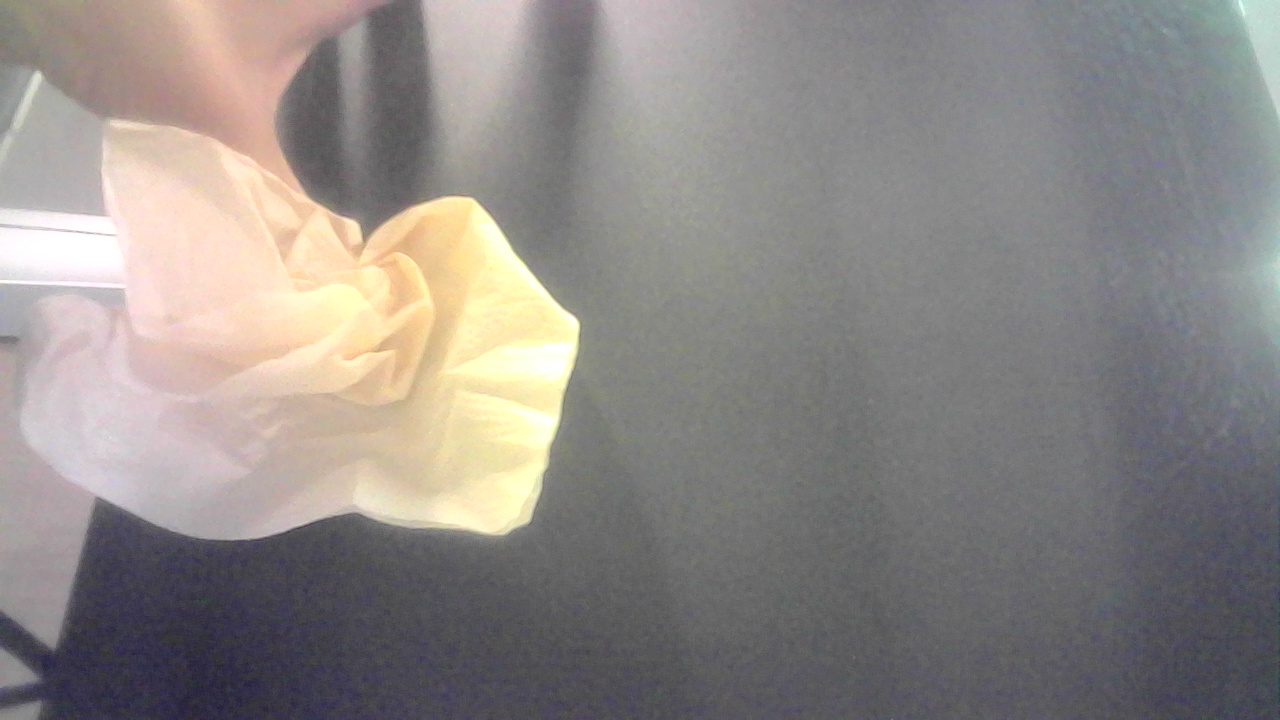Paper_Recycling: (34, 167, 569, 543)
